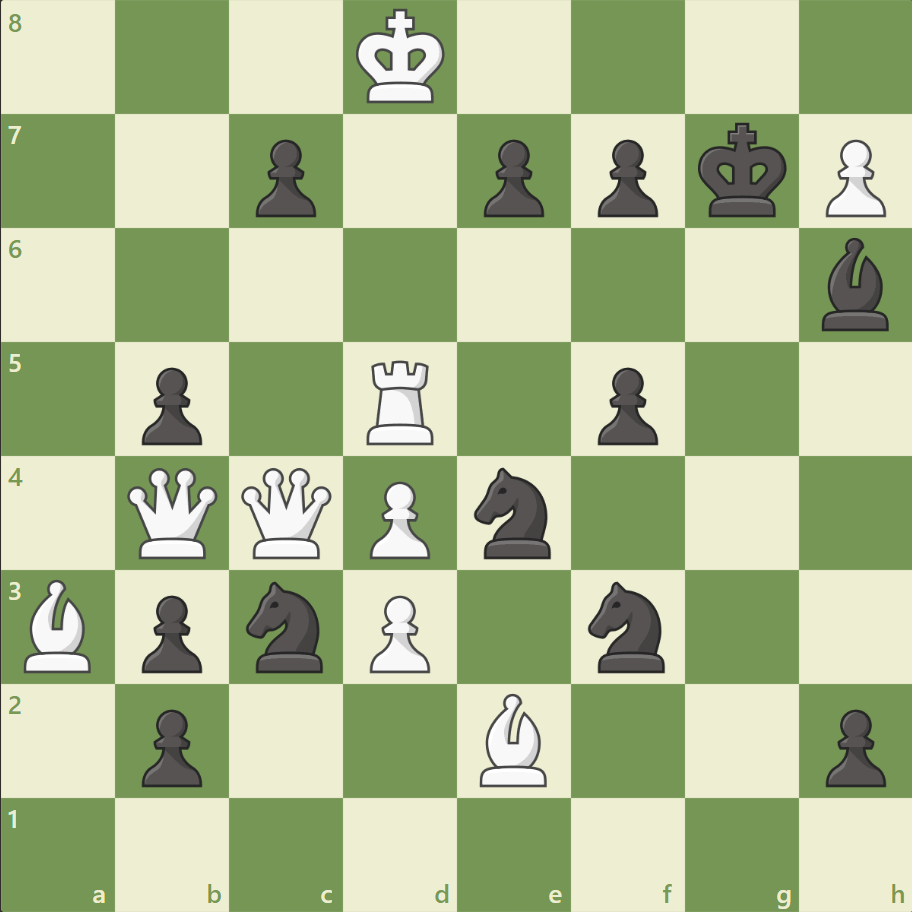B: (471, 687, 555, 790), (17, 574, 101, 676)
K: (351, 4, 451, 112)
P: (815, 132, 889, 223), (361, 473, 435, 564), (361, 586, 435, 677)
Q: (124, 463, 223, 562), (237, 463, 336, 562)
R: (360, 352, 442, 449)
b: (812, 233, 896, 336)
k: (692, 117, 792, 225)
n: (465, 461, 562, 564), (238, 575, 335, 677), (579, 575, 676, 677)
p: (247, 132, 322, 223), (474, 132, 549, 223), (133, 359, 208, 450), (133, 586, 208, 677), (133, 700, 208, 791), (588, 132, 662, 223), (588, 359, 662, 450), (815, 700, 889, 791)
